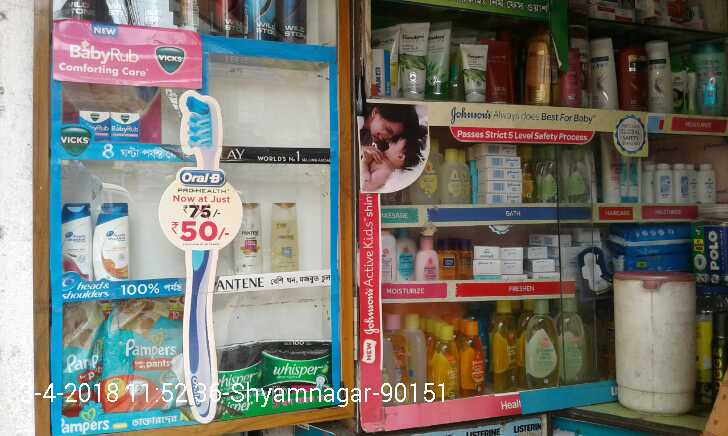vicks: (80, 110, 143, 141)
